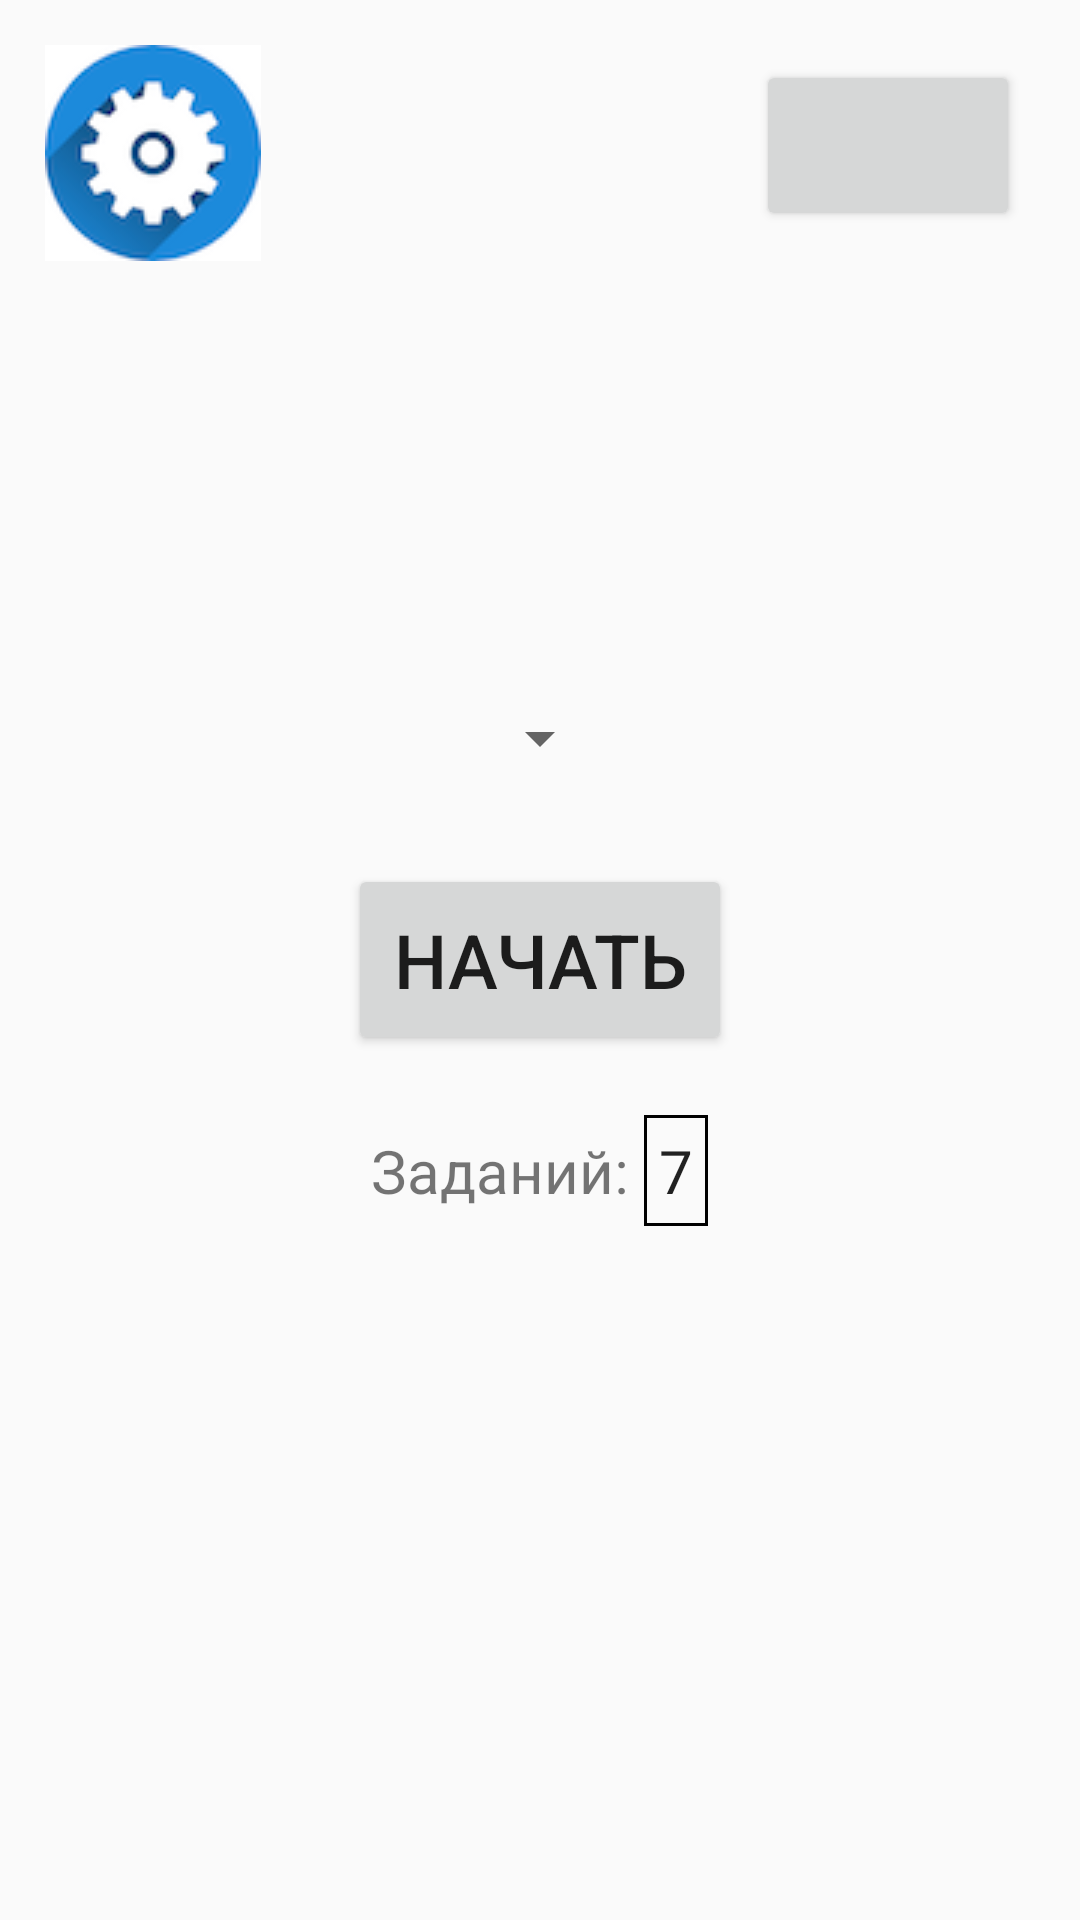

Named icons in this screenshot (1080w x 1920h) and their centers, [x,y]:
settings: [153,153]
